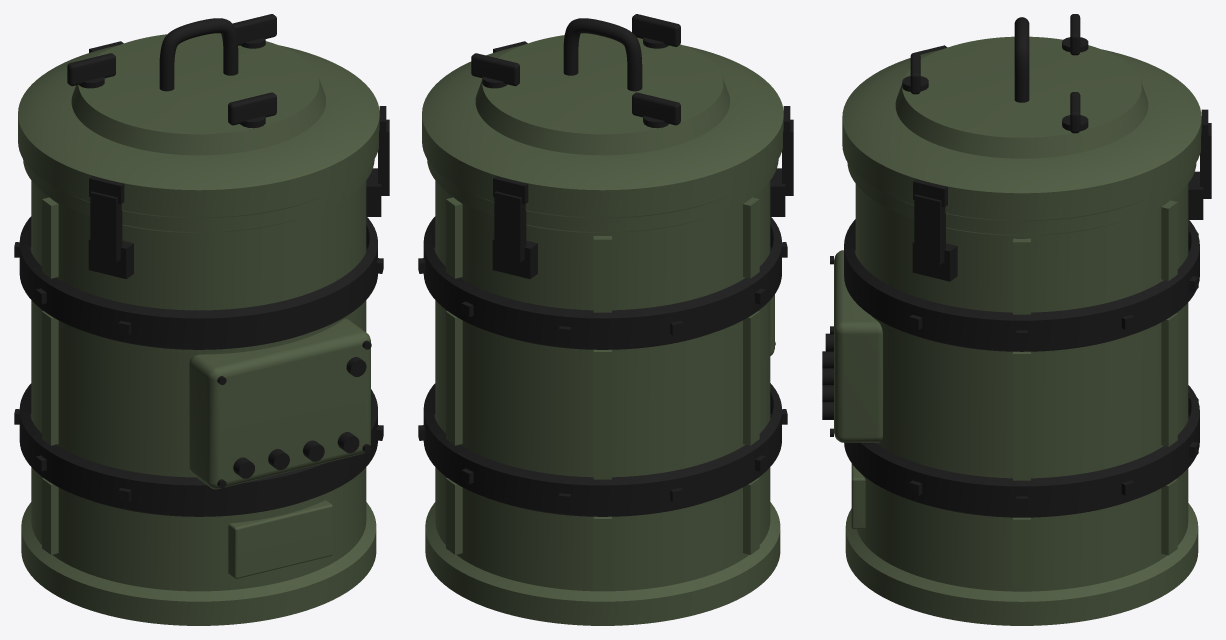
The model's file is SRZ_ArtCont_5.fbx.
The picture shows the model from 3 angles, left to right: view 1: azimuth 30°, elevation 25°; view 2: azimuth 150°, elevation 25°; view 3: azimuth 270°, elevation 25°; orthographic projection.
Parts seen in each view (by area): view 1: SRZ_ArtCont_5; view 2: SRZ_ArtCont_5; view 3: SRZ_ArtCont_5.
Boxes of the visible parts, left/top/right/bottom form: SRZ_ArtCont_5: left=14, top=14, right=389, bottom=625; SRZ_ArtCont_5: left=418, top=14, right=793, bottom=625; SRZ_ArtCont_5: left=822, top=14, right=1211, bottom=625.
Size of what is drawn, in the model's own units: 22.1 by 34.85 by 23.4.
